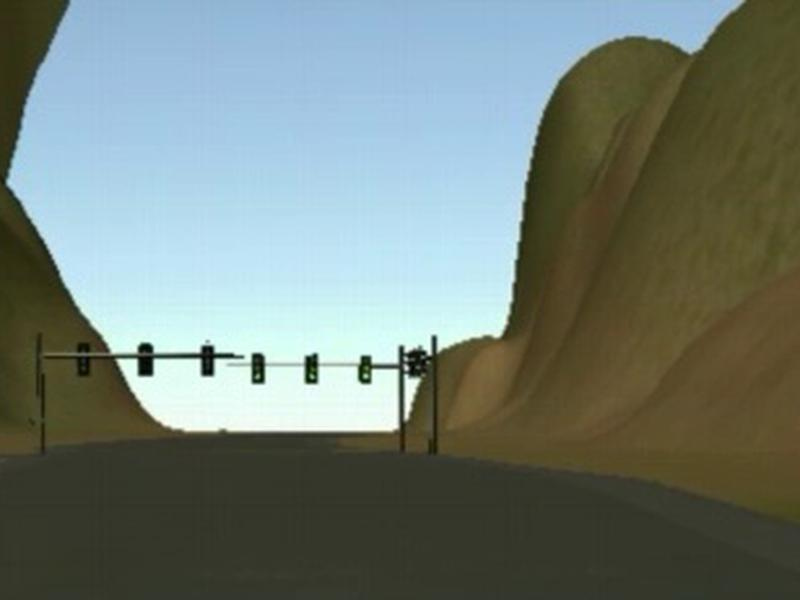Green: (304, 353, 320, 383), (251, 352, 264, 383), (358, 355, 372, 383)
